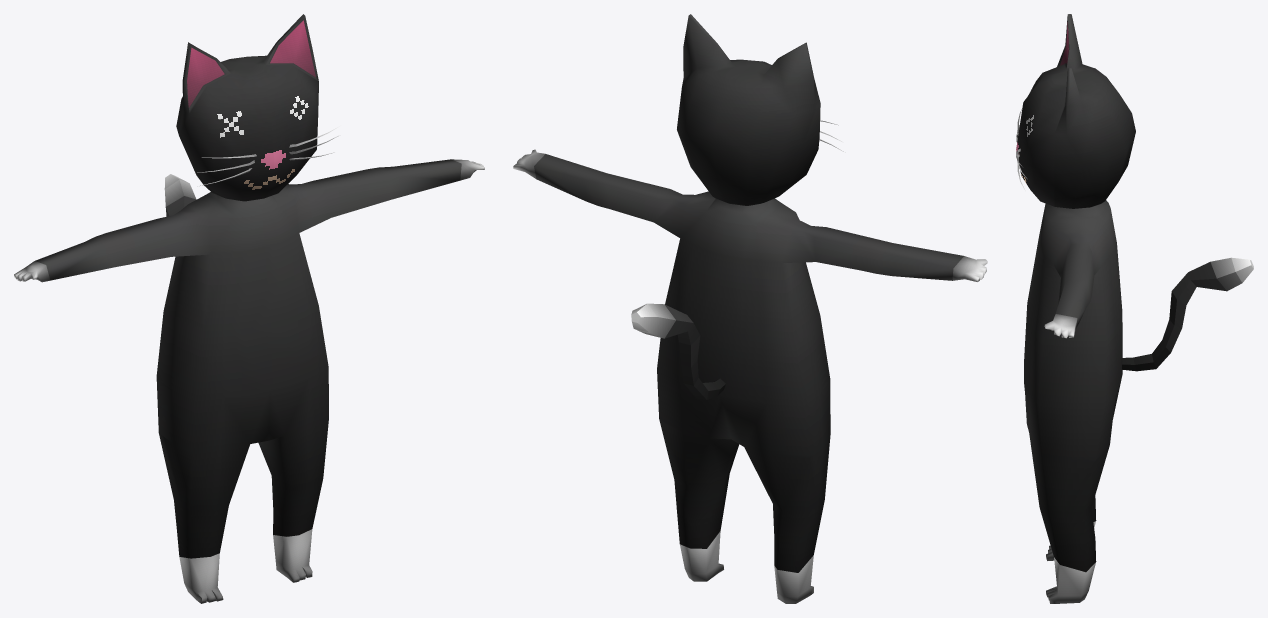
The model's file is  whiskeymodel.fbx.
3 views of the same model, side by side, from view 1: azimuth 30°, elevation 25°; view 2: azimuth 150°, elevation 25°; view 3: azimuth 270°, elevation 25° (orthographic). The views are drawn at different scales.
Visible parts, largest first — view 1: whiskey_model; view 2: whiskey_model; view 3: whiskey_model.
Boxes of the visible parts, bbox=[...] form: whiskey_model: bbox=[14, 14, 484, 603]; whiskey_model: bbox=[513, 14, 987, 603]; whiskey_model: bbox=[1016, 14, 1253, 603].
Size of the model in its own units: 640 by 734 by 295.
Materials: 1 (1 with a texture image).
